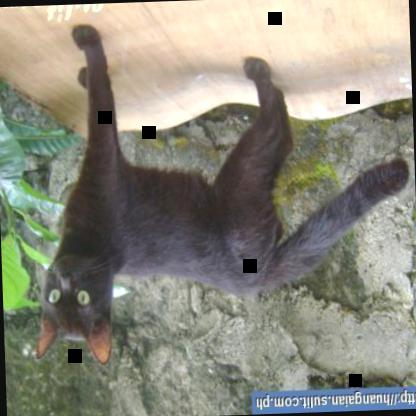cat: (25, 15, 415, 368)
